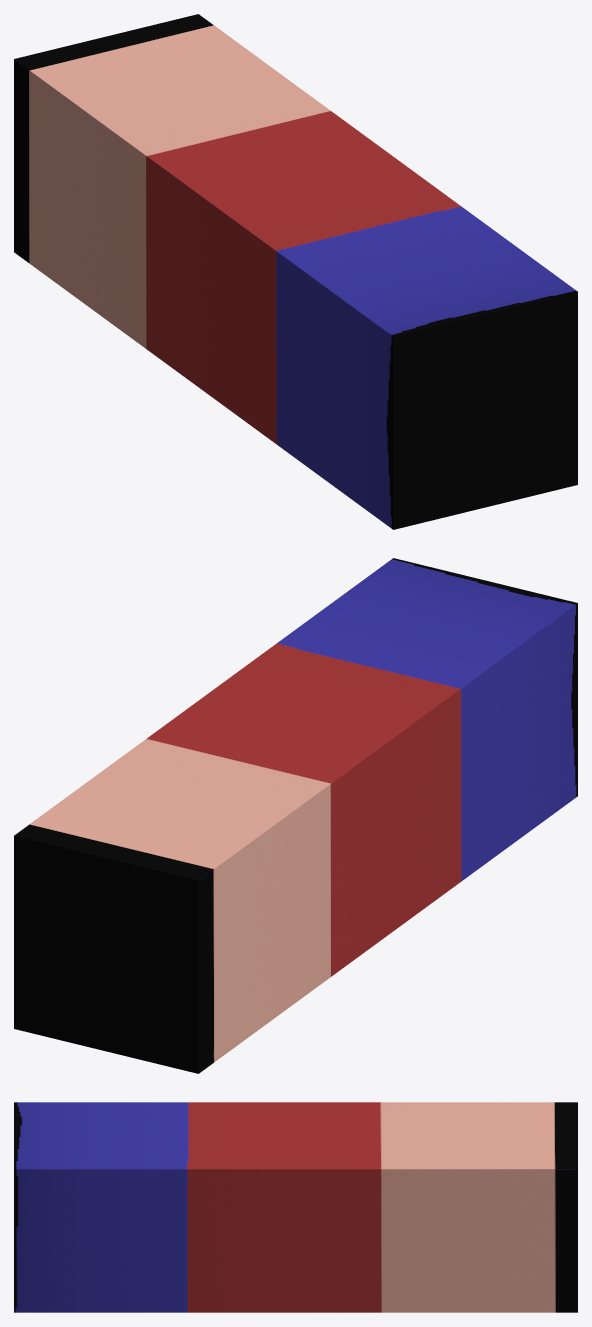
Rendered from human.obj.
3 renders of one model, top to bottom at view 1: azimuth 30°, elevation 25°; view 2: azimuth 150°, elevation 25°; view 3: azimuth 270°, elevation 25°, orthographic. The views are drawn at different scales.
Visible parts, largest first — view 1: Cube.003; view 2: Cube.003; view 3: Cube.003.
Boxes of the visible parts, left/top/right/bottom form: Cube.003: left=14, top=14, right=577, bottom=529; Cube.003: left=14, top=558, right=577, bottom=1073; Cube.003: left=14, top=1102, right=577, bottom=1312.
Size of the model in its own units: 1.8 by 1.8 by 6.42.
Materials: 1 (1 with a texture image).
